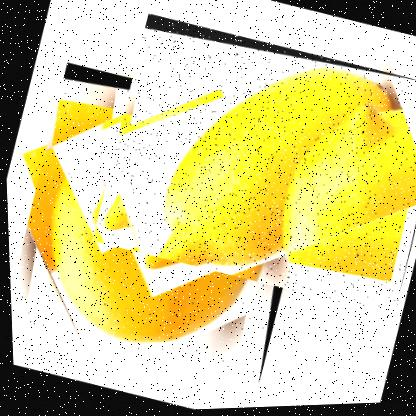lemon: (2, 54, 331, 396), (82, 4, 415, 328)
